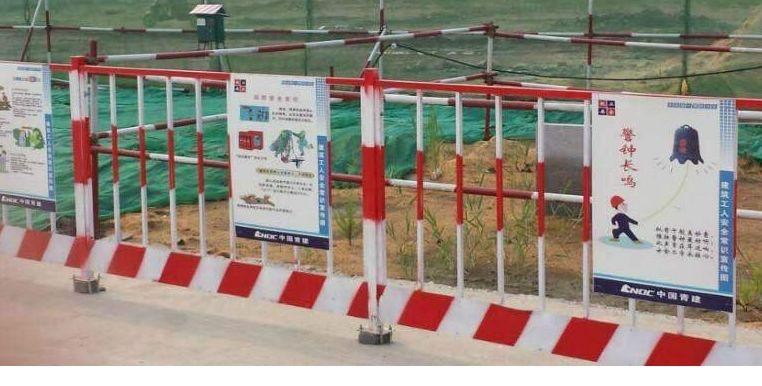sign: (57, 55, 757, 363)
